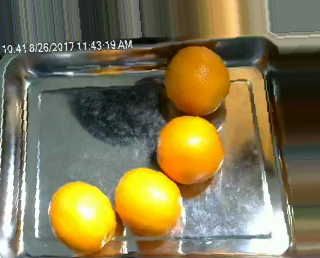Orange: (47, 180, 117, 250), (163, 44, 231, 116), (156, 115, 224, 184), (114, 168, 182, 237)
